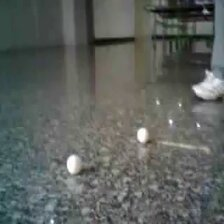w: (65, 154, 82, 173), (136, 128, 148, 142)
